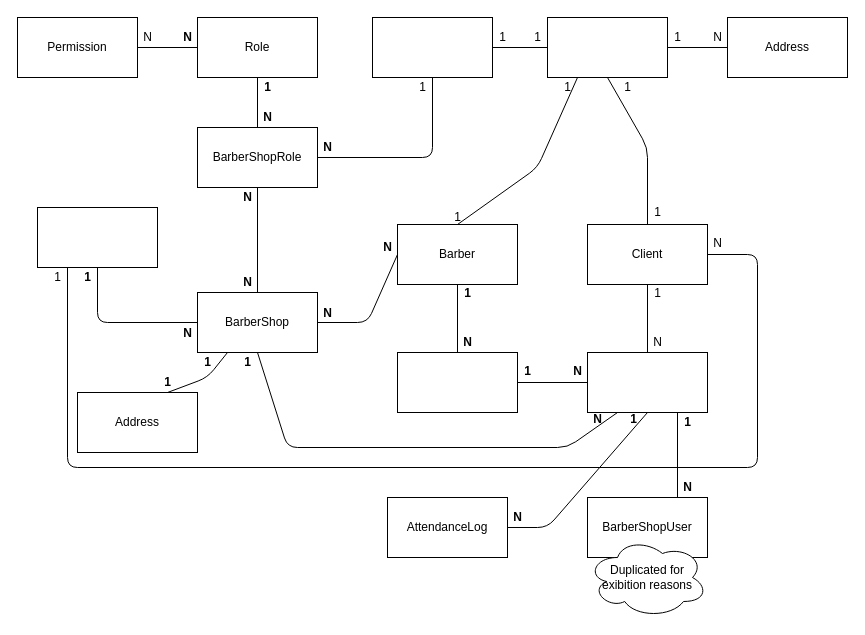
This 865x635 diagram has some shape labels left out. The shapes that lost their labels are listed below. From the top down, each one's box as (x1, y1, x2, y2) in pixels, then its label:
(372, 16, 492, 78): User
(546, 16, 668, 78): Person
(36, 206, 158, 268): BarberShopPoll
(396, 352, 518, 412): BarberJobs
(586, 352, 708, 412): Attendance
